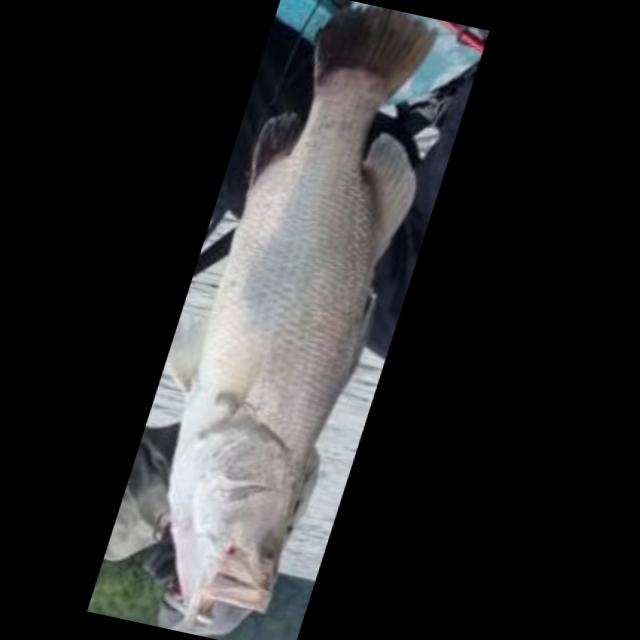Seabass: (103, 0, 475, 640)
